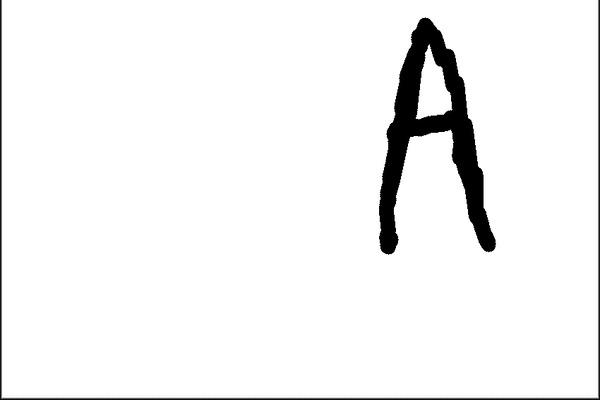A: (359, 5, 512, 267)
